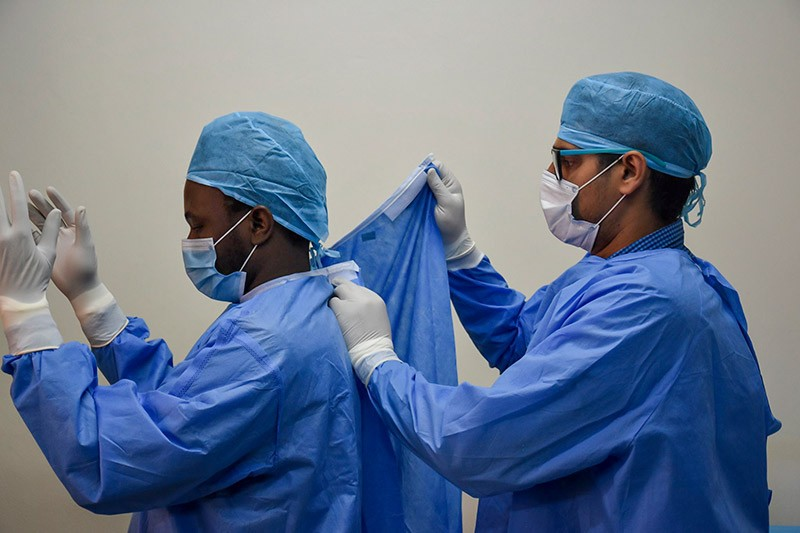Coverall: (362, 246, 788, 533), (7, 276, 364, 533)
Gloves: (25, 184, 132, 351), (1, 169, 67, 361), (326, 274, 403, 388), (428, 156, 483, 272)
with_mask: (536, 142, 615, 257), (179, 200, 248, 304)
